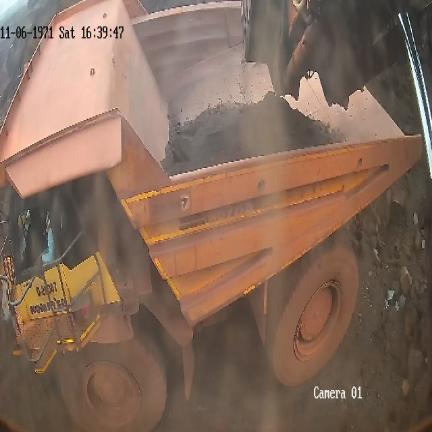pile: (332, 153, 429, 418), (160, 88, 334, 178)
